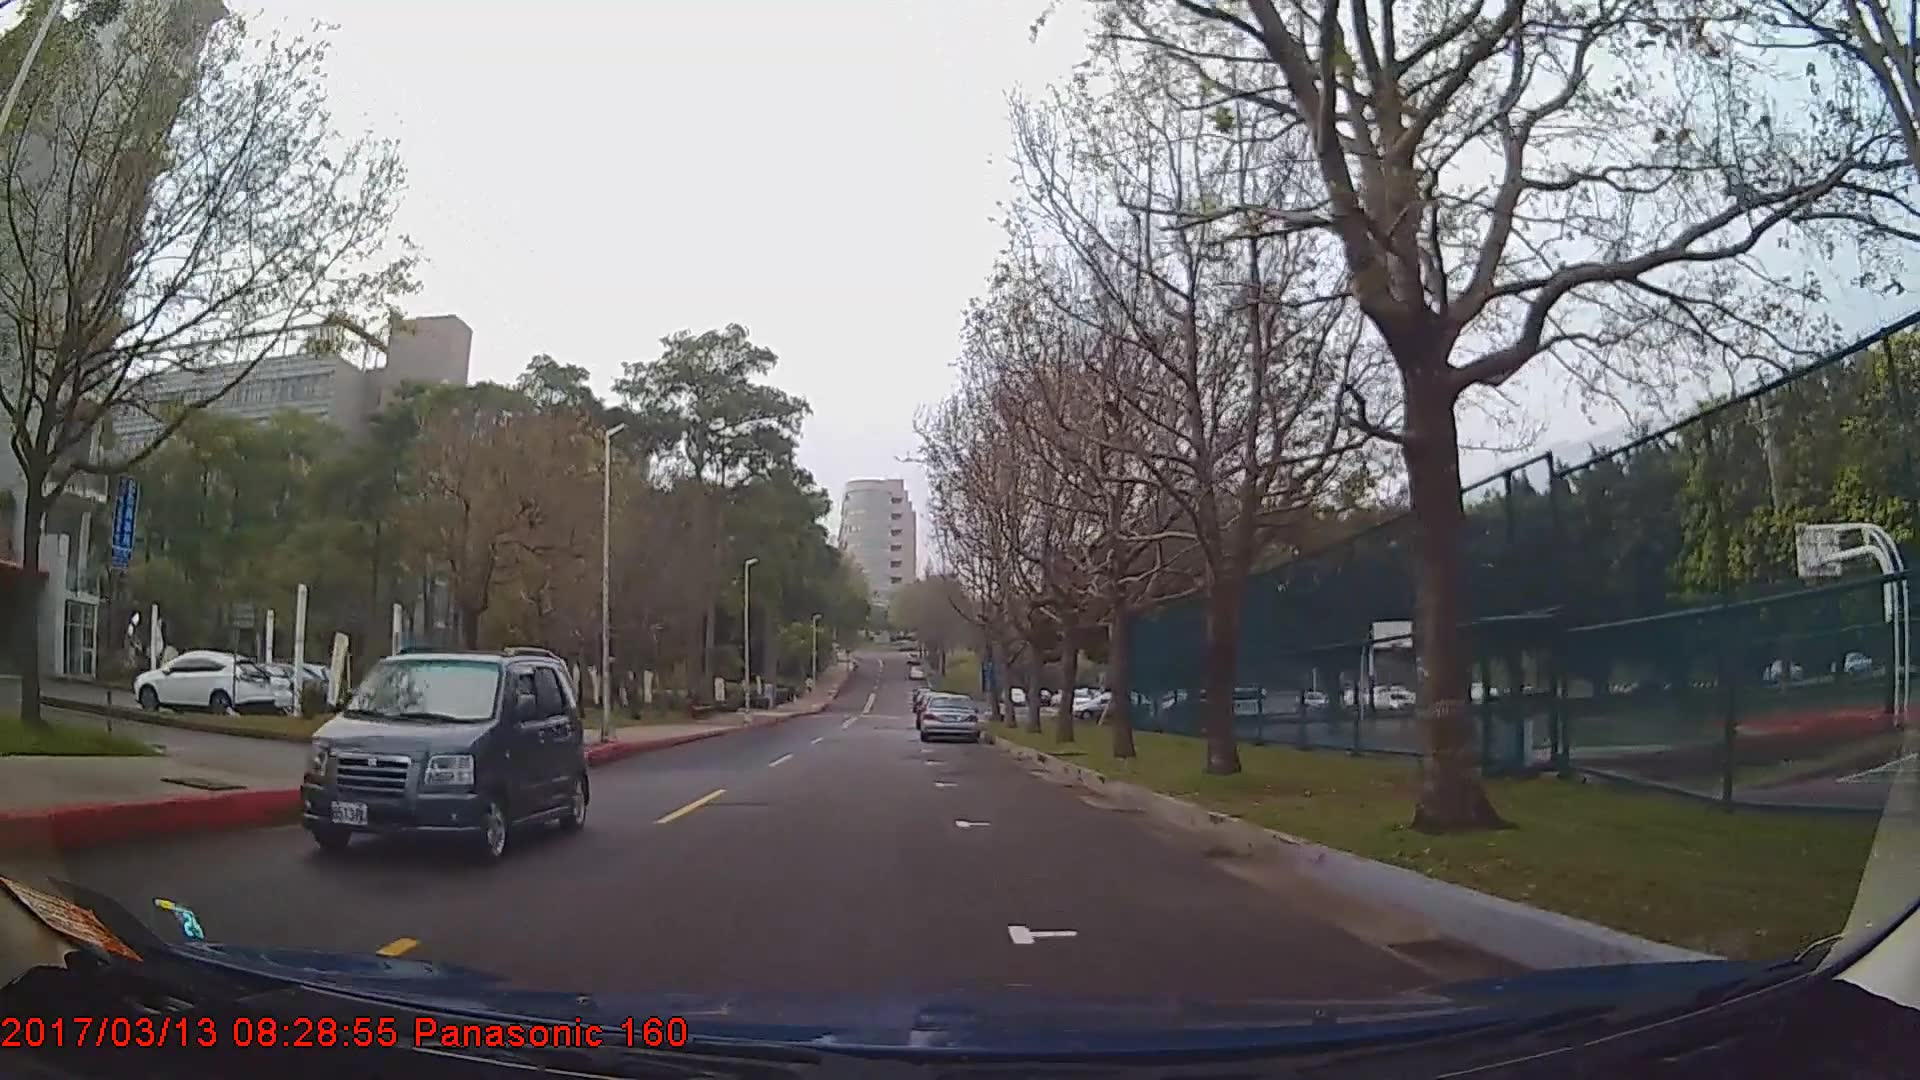vehicle: (295, 647, 592, 868), (132, 647, 272, 713), (916, 690, 978, 742)
